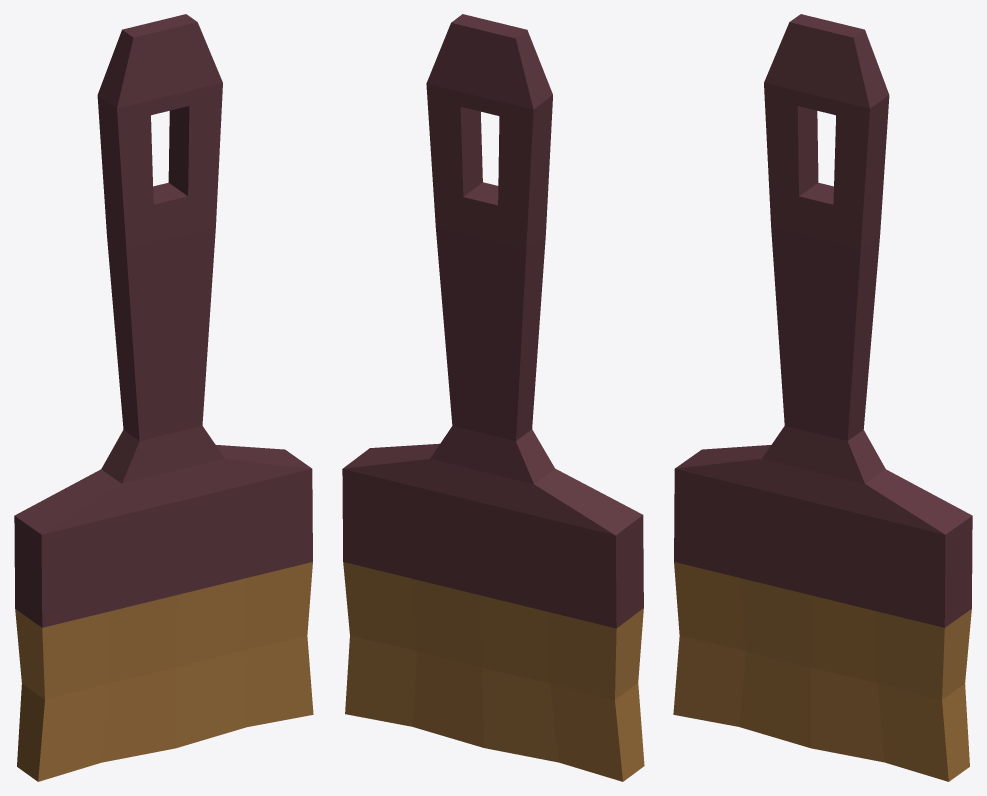
File: tools-brush-straight-wide.glb
The picture shows the model from 3 angles, left to right: view 1: azimuth 30°, elevation 25°; view 2: azimuth 150°, elevation 25°; view 3: azimuth 330°, elevation 25°; orthographic projection.
Visible parts, largest first — view 1: brush-straight-wide; view 2: brush-straight-wide; view 3: brush-straight-wide.
Part boxes in pixels (x1=…): brush-straight-wide: x1=14, y1=14, x2=313, y2=781; brush-straight-wide: x1=342, y1=14, x2=644, y2=781; brush-straight-wide: x1=673, y1=14, x2=972, y2=781.
Size of the model in its own units: 0.0984 by 0.2429 by 0.0172.
